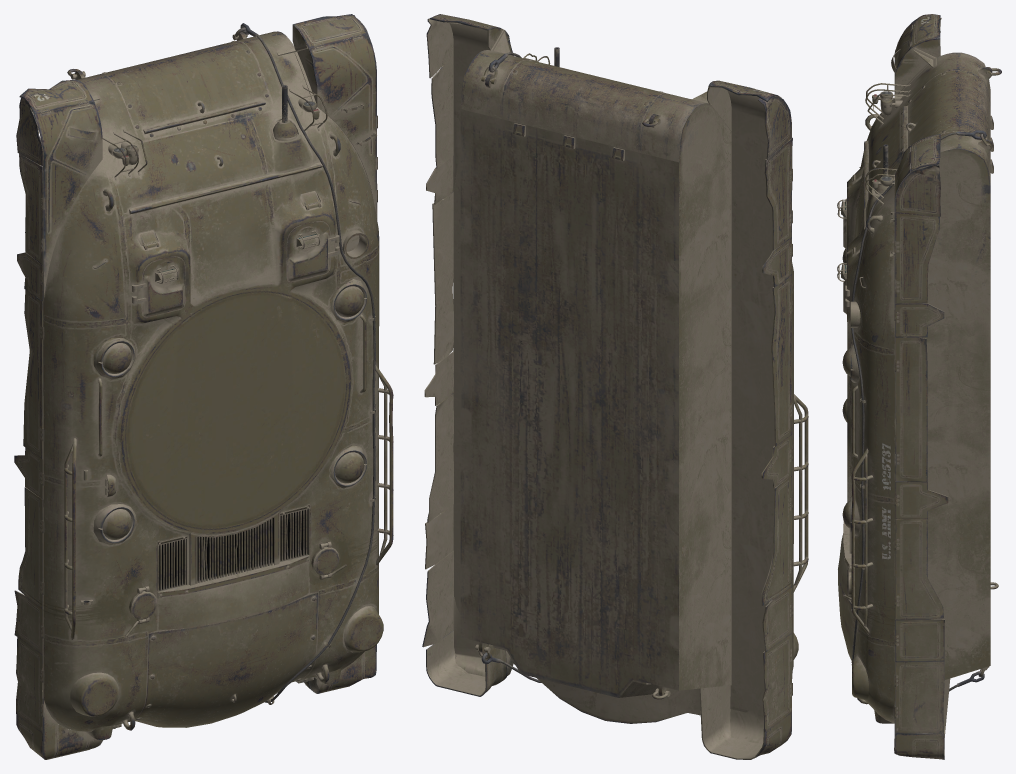
Rendered from Hull.glb.
3 views of the same model, side by side, from view 1: azimuth 30°, elevation 25°; view 2: azimuth 150°, elevation 25°; view 3: azimuth 270°, elevation 25° (orthographic). The views are drawn at different scales.
Parts seen in each view (by area): view 1: set_0_group_0; view 2: set_0_group_0; view 3: set_0_group_0.
Boxes of the visible parts, x1,y1,x2,y2 form: set_0_group_0: [14, 14, 393, 759]; set_0_group_0: [422, 14, 808, 759]; set_0_group_0: [837, 14, 1001, 759].
Size of the model in its own units: 2.89 by 5.37 by 1.32.
1 material, 1 textured.
